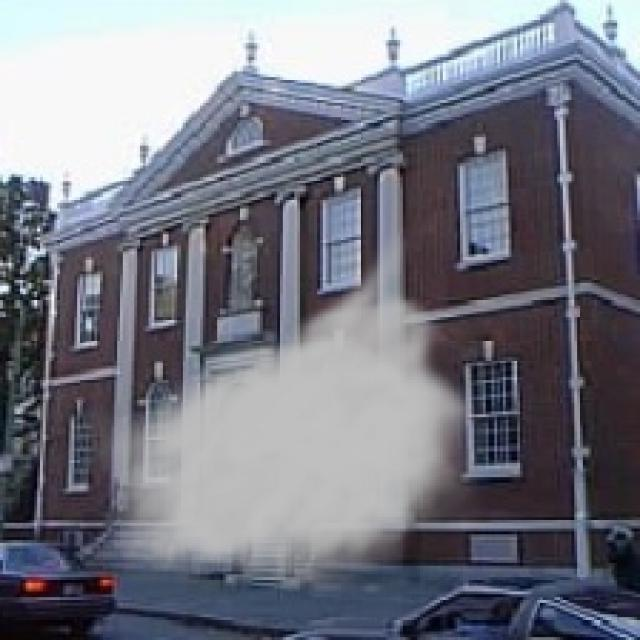smoke: (83, 223, 488, 597)
